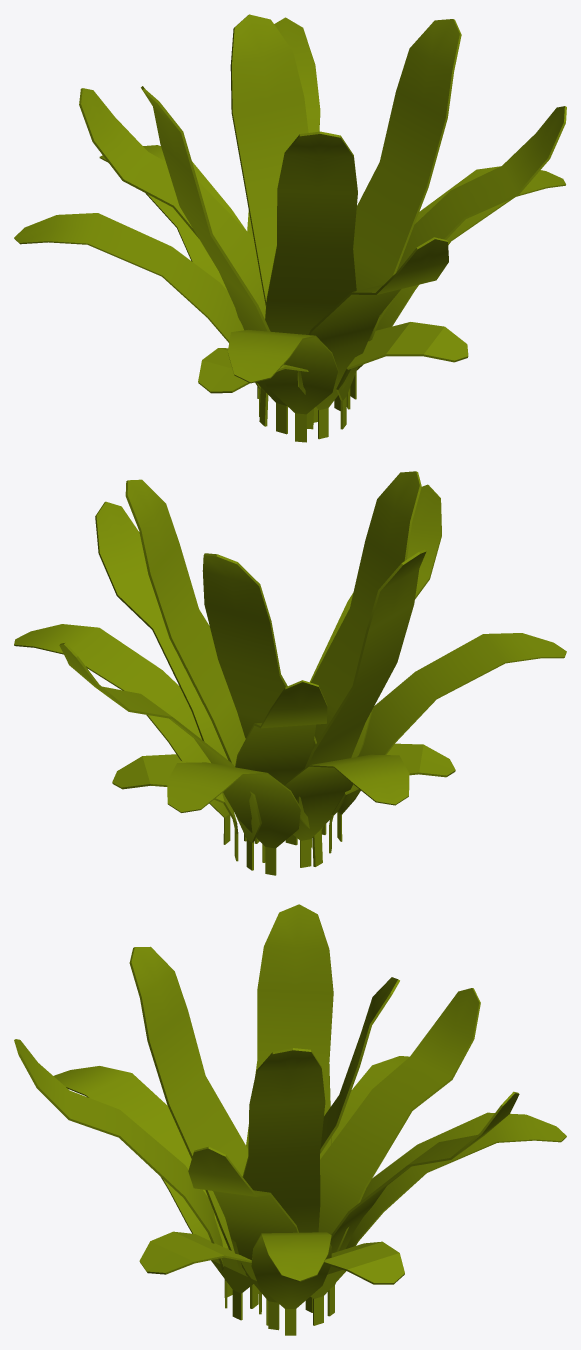
File: Bush2.fbx
The picture shows the model from 3 angles, top to bottom: view 1: azimuth 30°, elevation 25°; view 2: azimuth 150°, elevation 25°; view 3: azimuth 270°, elevation 25°; orthographic projection. The views are drawn at different scales.
Visible parts, largest first — view 1: Arbusto2; view 2: Arbusto2; view 3: Arbusto2.
Boxes of the visible parts, <box> form: Arbusto2: <box>14,14,566,442</box>; Arbusto2: <box>14,471,566,875</box>; Arbusto2: <box>14,904,566,1335</box>.
Size of the model in its own units: 38.58 by 27.68 by 40.91.
